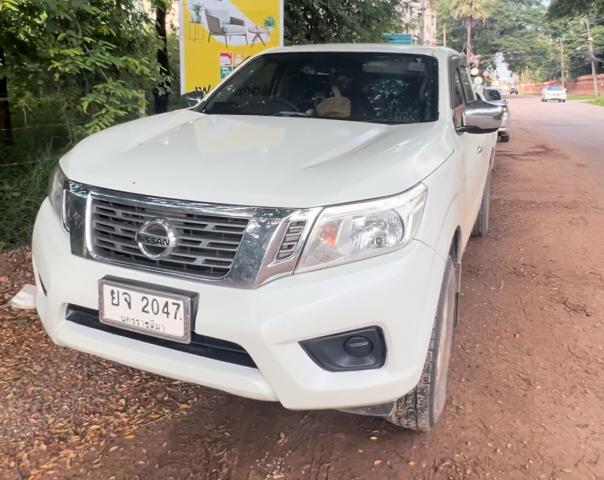pickup-truck: (29, 38, 510, 439)
